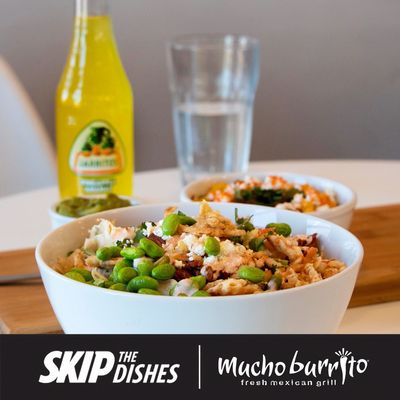pizza: (164, 32, 261, 190)
sushi: (25, 200, 364, 333), (182, 170, 358, 230)
